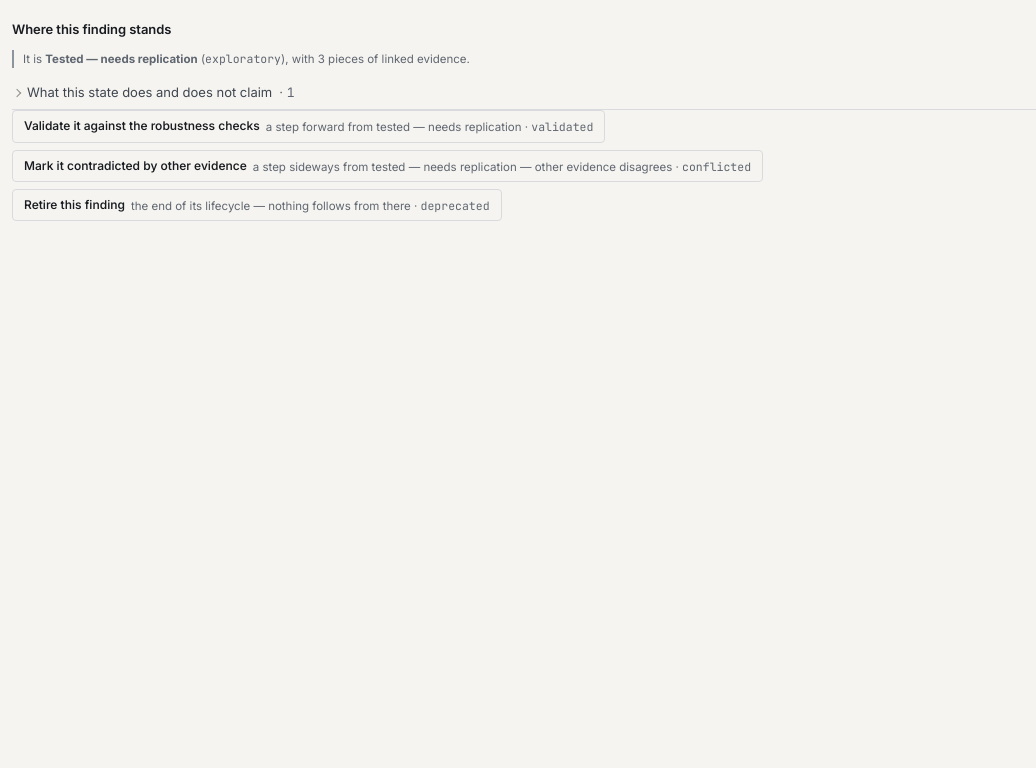
Test: a robustness check has three states, not two › asks for every check the server requires
This screenshot has width=1036, height=768.
Click the button "Validate it against the robustness checks".
click(309, 126)  # box [12,110,605,143]
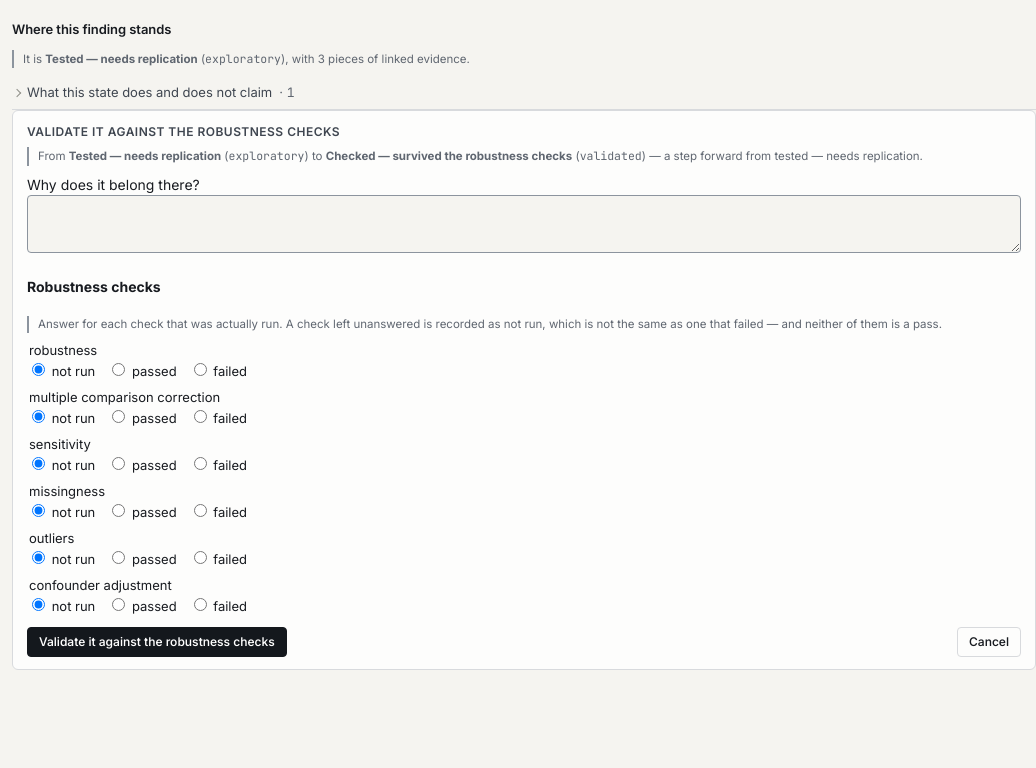
Now the element "robustness" is shown, box [29,342,247,380]
Now the element "sensitivity" is shown, box [29,436,247,474]
Now the element "missingness" is shown, box [29,483,247,520]
